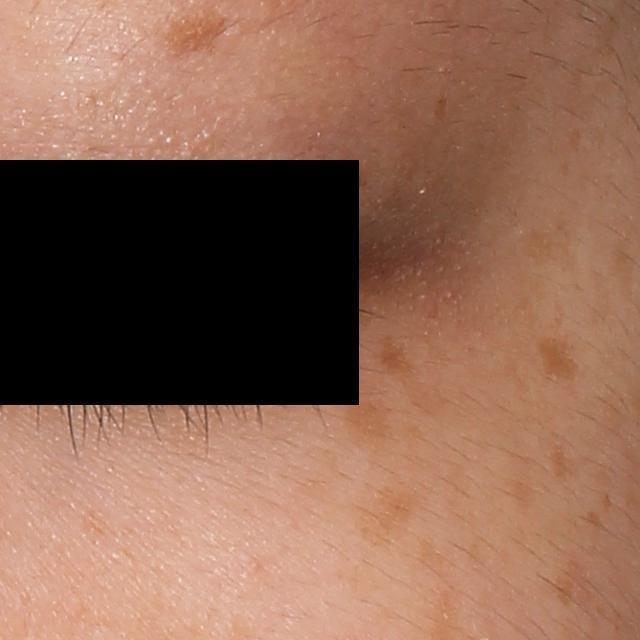melasma: (379, 330, 448, 420), (351, 483, 423, 546), (516, 219, 581, 281), (332, 393, 393, 455), (159, 9, 232, 60), (590, 245, 638, 318), (536, 335, 583, 383), (548, 442, 583, 487), (79, 504, 111, 541), (431, 93, 452, 126), (581, 508, 606, 529), (602, 491, 613, 511)
